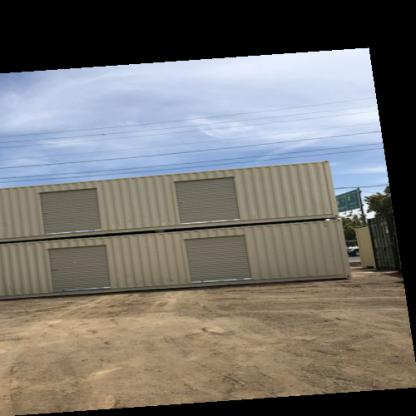Damage: (43, 263, 67, 278), (174, 193, 188, 209), (37, 206, 53, 218)
